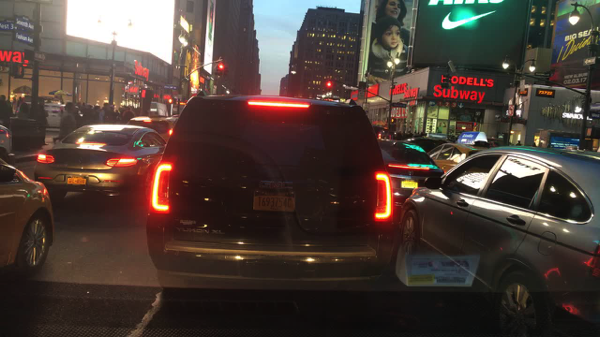car: (147, 96, 391, 312), (396, 150, 598, 337), (34, 123, 167, 205), (1, 161, 56, 278), (377, 143, 442, 208), (427, 144, 490, 174), (127, 115, 176, 134), (404, 139, 452, 154), (1, 126, 12, 162)
person: (61, 100, 79, 141), (38, 97, 51, 146), (0, 94, 13, 130), (101, 102, 112, 124), (19, 97, 28, 122), (110, 104, 120, 123), (124, 106, 133, 124)
traffic light: (218, 63, 224, 76), (213, 65, 219, 76), (326, 81, 332, 90), (225, 64, 228, 77)
traffic sign: (581, 58, 596, 66)
